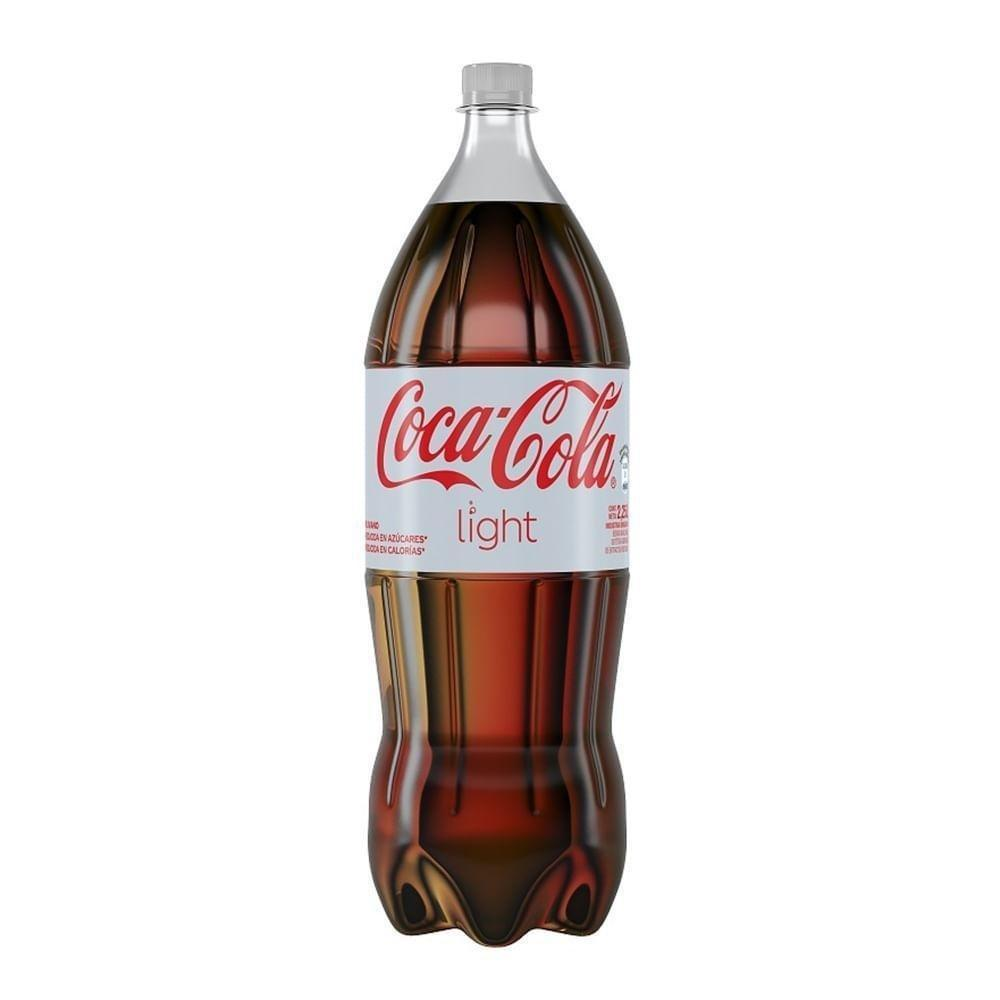bottle-plastic: (354, 55, 640, 951)
